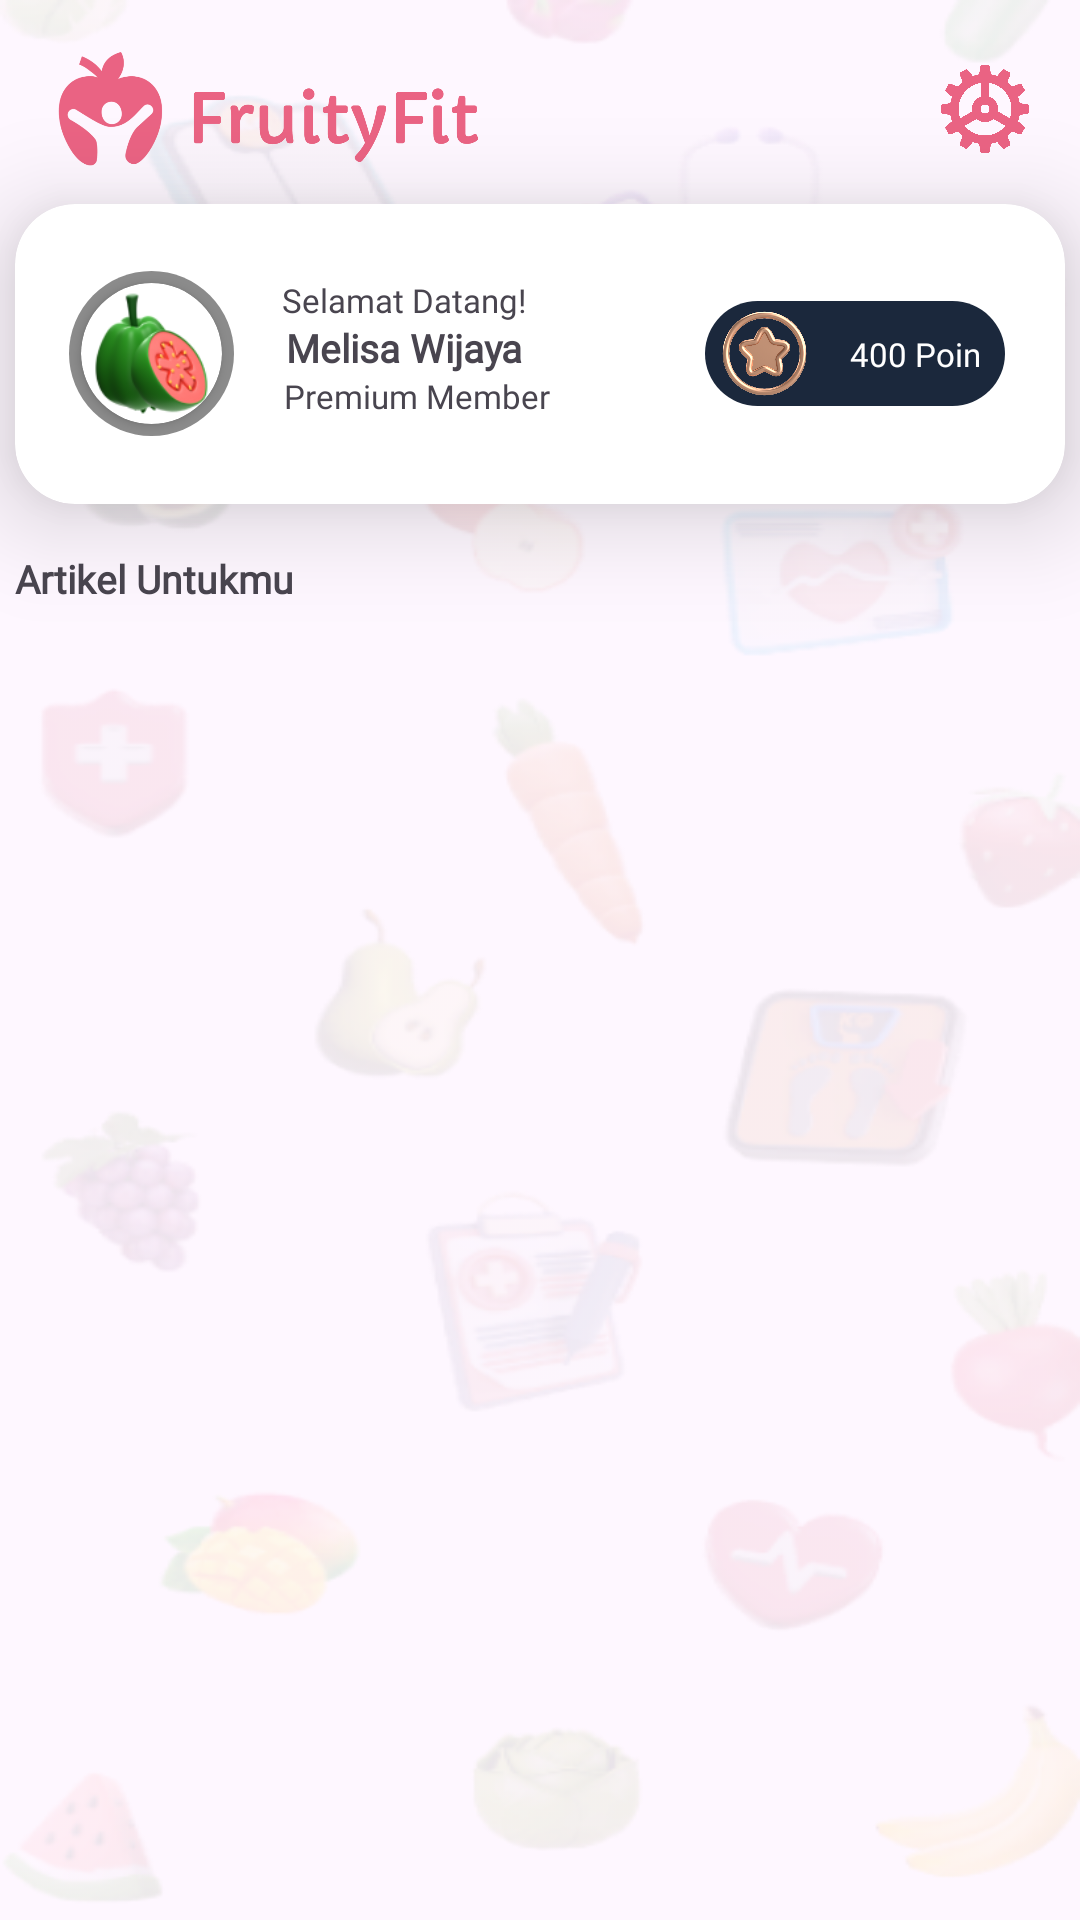

Icon click points for this 1080px×1920px phone screenshot, format [x,y]:
jambu: [151,353]
poin user: [764,353]
setting: [985,109]
